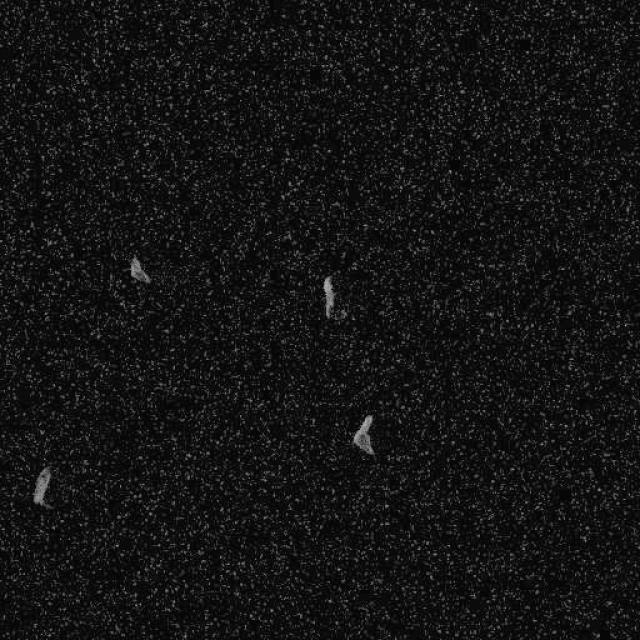D2: (352, 414, 376, 456), (32, 465, 52, 507), (128, 254, 152, 284), (321, 274, 335, 318)
